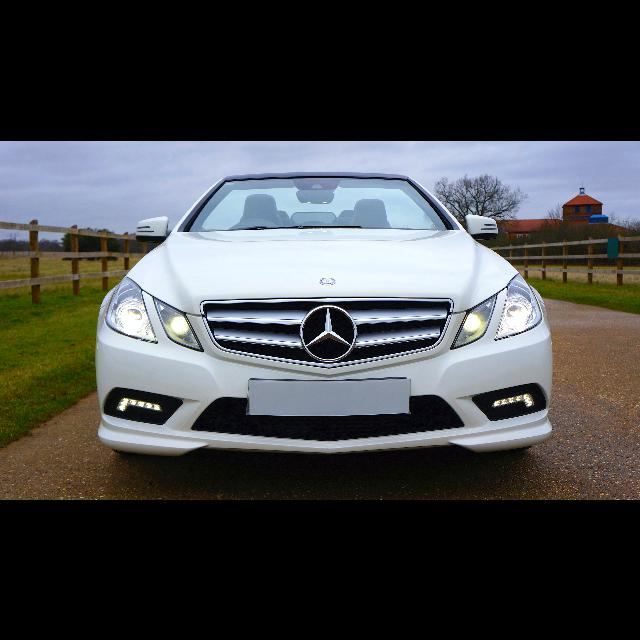cars: (88, 159, 564, 475)
